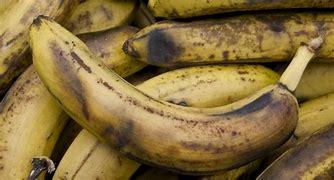banana: (27, 12, 310, 166), (132, 12, 334, 66)
